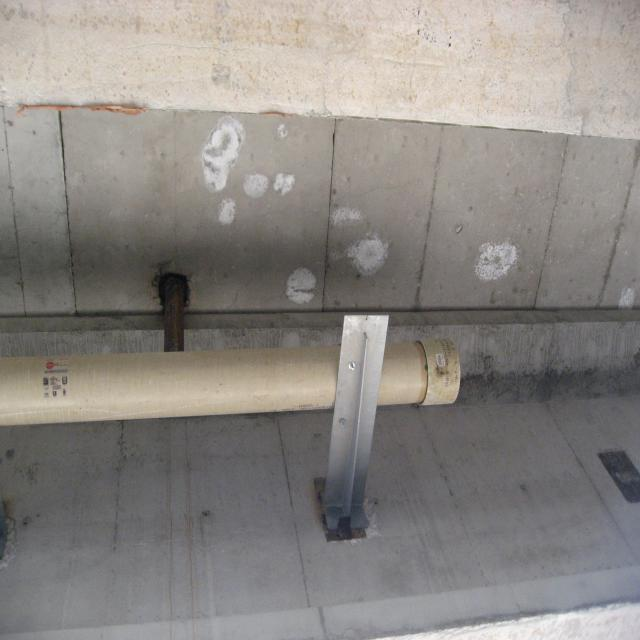corrosion: (309, 472, 375, 546), (150, 265, 196, 358), (183, 416, 201, 640), (166, 418, 175, 636), (2, 495, 14, 526)
